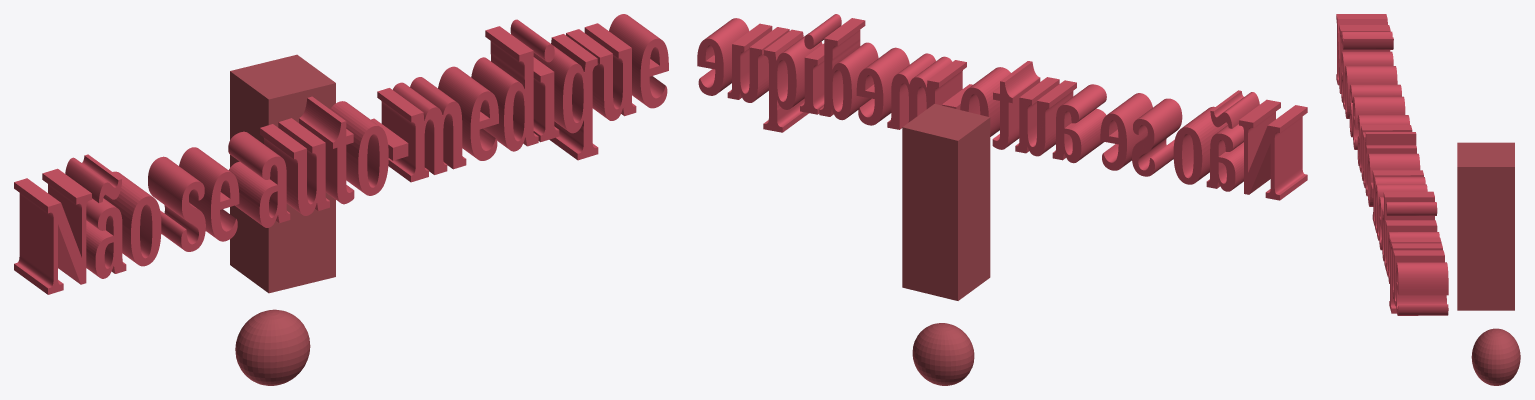
Rendered from gltf_file.glb.
The picture shows the model from 3 angles, left to right: view 1: azimuth 30°, elevation 25°; view 2: azimuth 150°, elevation 25°; view 3: azimuth 270°, elevation 25°; orthographic projection. The views are drawn at different scales.
Parts seen in each view (by area): view 1: Mesh_Mesh_head_geo.001_lambert2SG.001; view 2: Mesh_Mesh_head_geo.001_lambert2SG.001; view 3: Mesh_Mesh_head_geo.001_lambert2SG.001.
Part boxes in pixels (<box>): Mesh_Mesh_head_geo.001_lambert2SG.001: <box>14,14,668,385</box>; Mesh_Mesh_head_geo.001_lambert2SG.001: <box>697,14,1307,385</box>; Mesh_Mesh_head_geo.001_lambert2SG.001: <box>1336,14,1520,385</box>.
Size of the model in its own units: 197 by 97.39 by 64.
